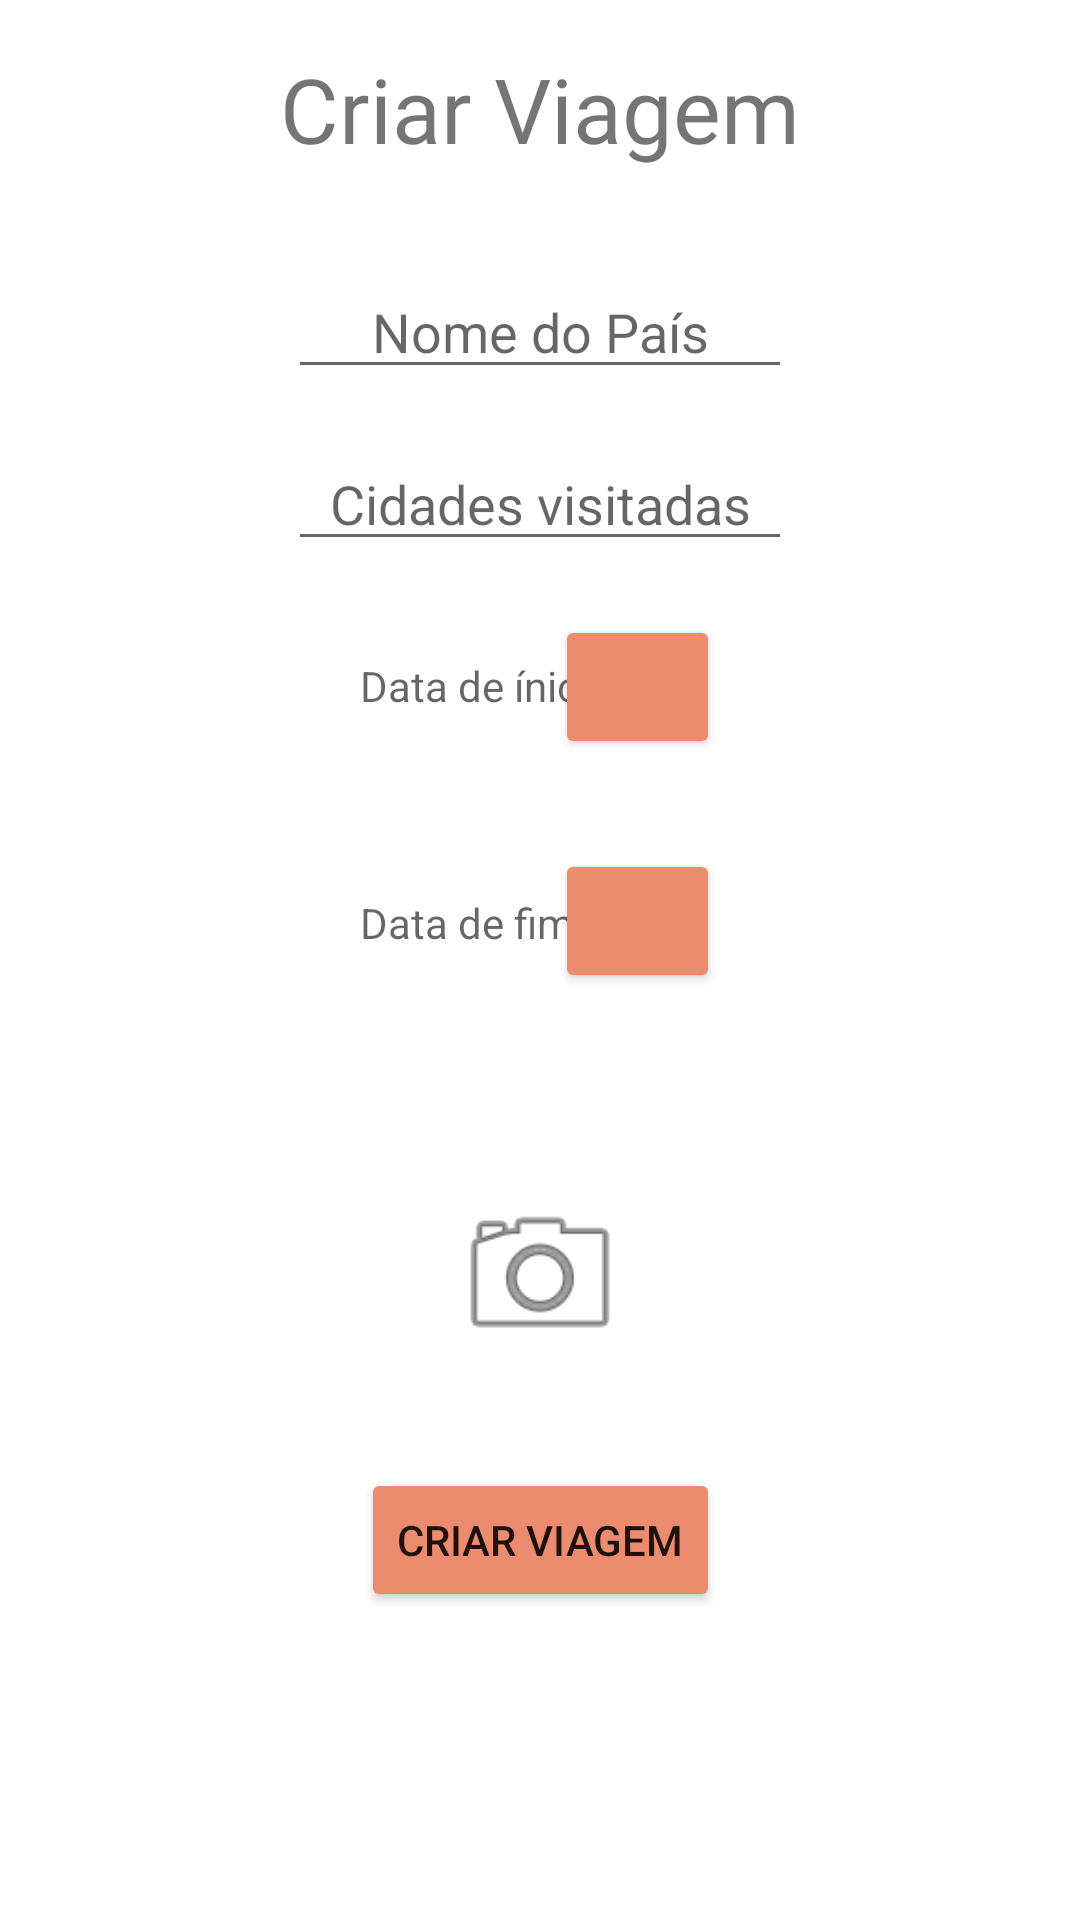

Icons on this 1080 x 1920 Android screen, each with the point to tap as (x,y):
camera: (540,1272)
